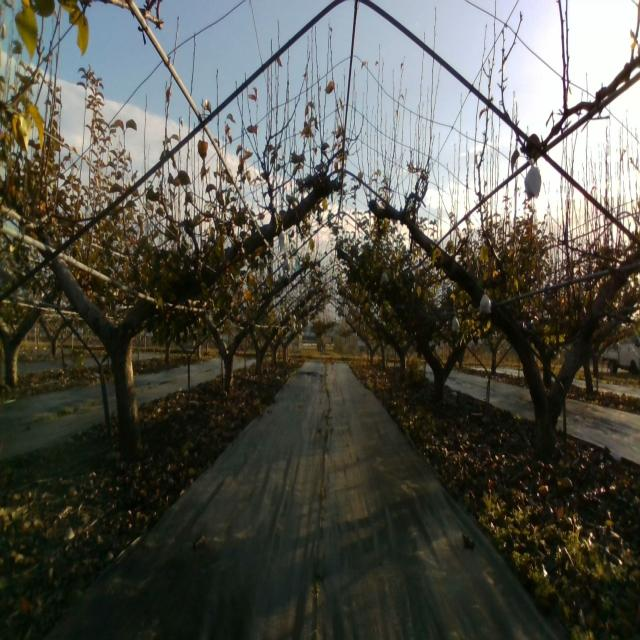pearbags: (523, 158, 542, 201), (478, 288, 491, 315)
